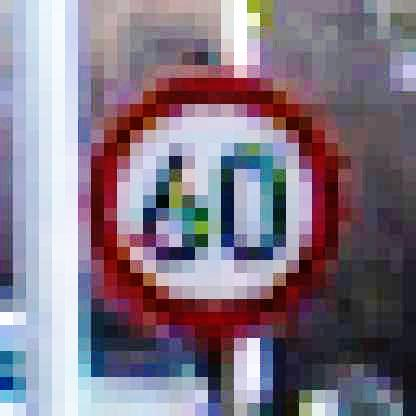Speed Limit -60-: (72, 67, 350, 341)
